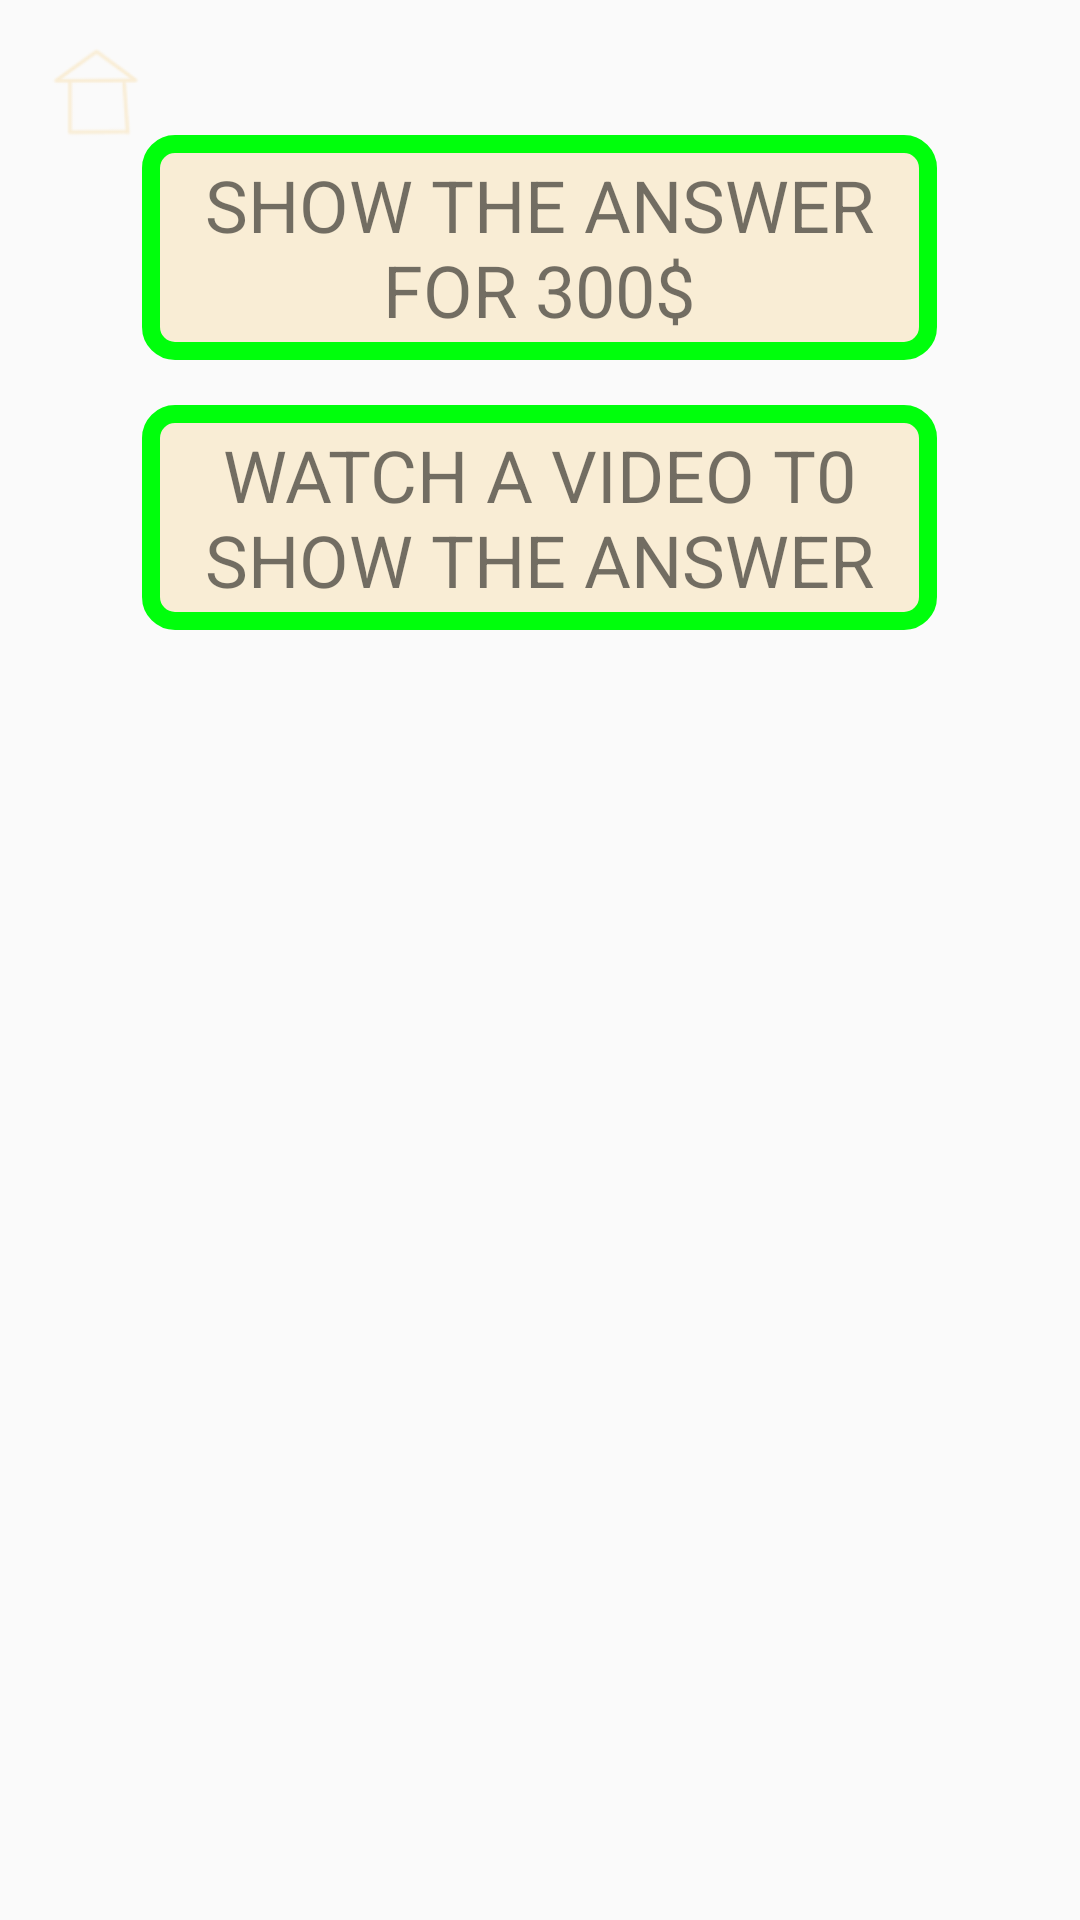

Icons on this 1080 × 1920 Android screen, each with its box as {"x1": x1, "y1": y1, "x2": x2, "y2": y2}:
home: {"x1": 55, "y1": 51, "x2": 136, "y2": 134}
